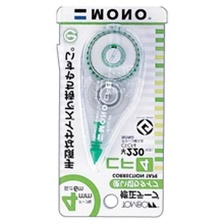book: (54, 2, 169, 219)
correction_fluid: (77, 23, 145, 170)
